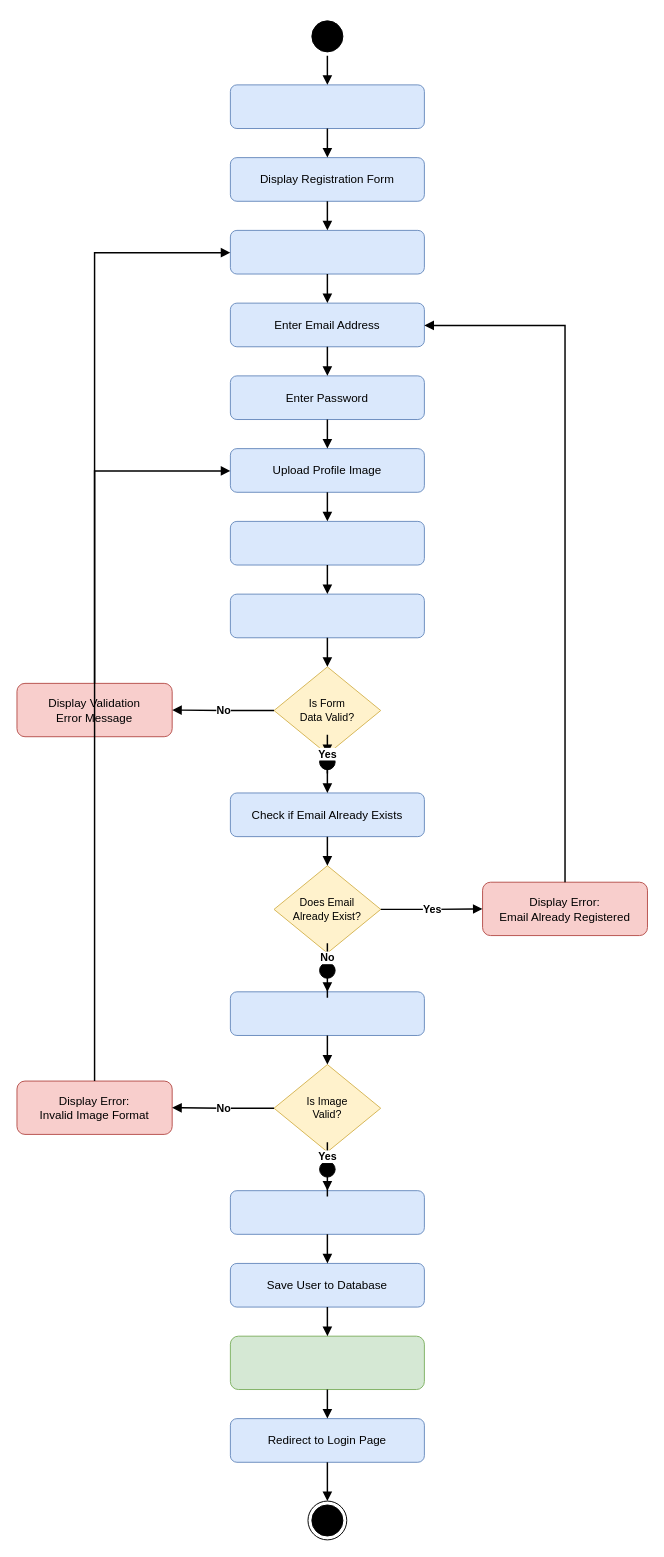
Image size: 664x1557. Some labels were removed from this diagram. Each missing label, with the box of its shape:
Click Register Button: (229, 520, 424, 565)
Display Success Message "Registration Successful": (229, 1335, 424, 1390)
Enter Name: (229, 229, 424, 274)
Hash Password: (229, 1190, 424, 1234)
Navigate to Registration Page: (229, 84, 424, 129)
Validate Form Data: (229, 593, 424, 638)
Validate Profile Image: (229, 991, 424, 1035)
